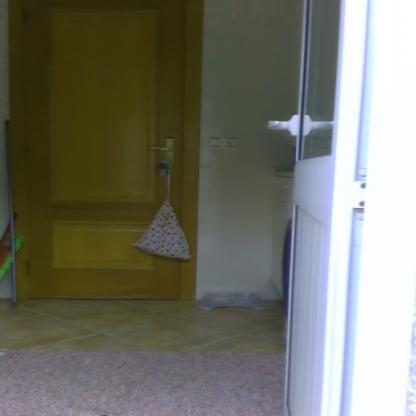door: (22, 0, 182, 300)
hinged: (20, 4, 30, 23), (26, 260, 34, 276), (25, 148, 32, 164)
lever: (145, 144, 174, 154)
